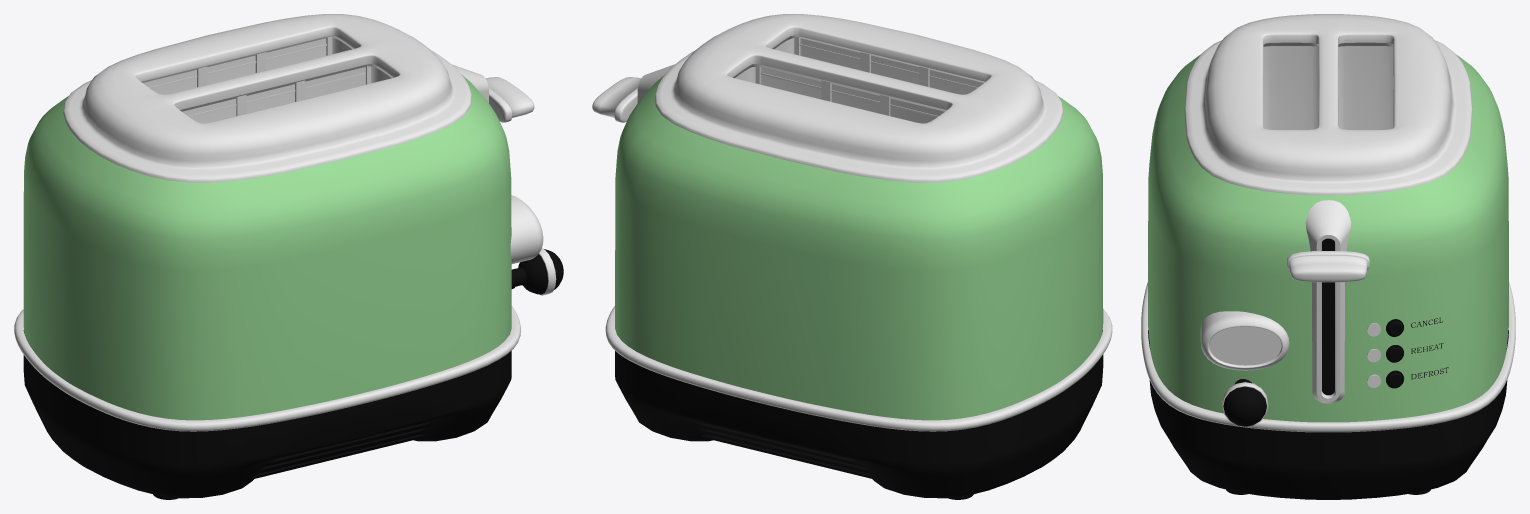
The model's file is Toaster2.fbx.
3 views of the same model, side by side, from view 1: azimuth 30°, elevation 25°; view 2: azimuth 150°, elevation 25°; view 3: azimuth 270°, elevation 25° (orthographic). The views are drawn at different scales.
Parts seen in each view (by area): view 1: Cube, Cube.001, Cube.013, Sphere, Cube.010, Cube.008; view 2: Cube, Cube.001, Cube.013, Cube.008; view 3: Cube, Cylinder, Cube.001, Cube.008, Cube.012, Cube.010, Sphere, Cylinder.002.
Boxes of the visible parts, x1,y1,x2,y2 form: Cube: (23,14,511,498); Cube.001: (14,306,520,431); Cube.013: (253,423,432,479); Sphere: (511,248,563,295); Cube.010: (510,195,543,263); Cube.008: (485,77,534,122); Cube: (615,14,1103,498); Cube.001: (605,306,1112,431); Cube.013: (694,423,873,479); Cube.008: (592,77,640,122); Cube: (1148,14,1508,499); Cylinder: (1305,200,1351,403); Cube.001: (1141,282,1515,432); Cube.008: (1287,251,1369,282); Cube.012: (1209,326,1281,365); Cube.010: (1200,311,1289,370); Sphere: (1222,379,1268,426); Cylinder.002: (1367,319,1403,388).
Size of the model in its own units: 387 by 279 by 279.
